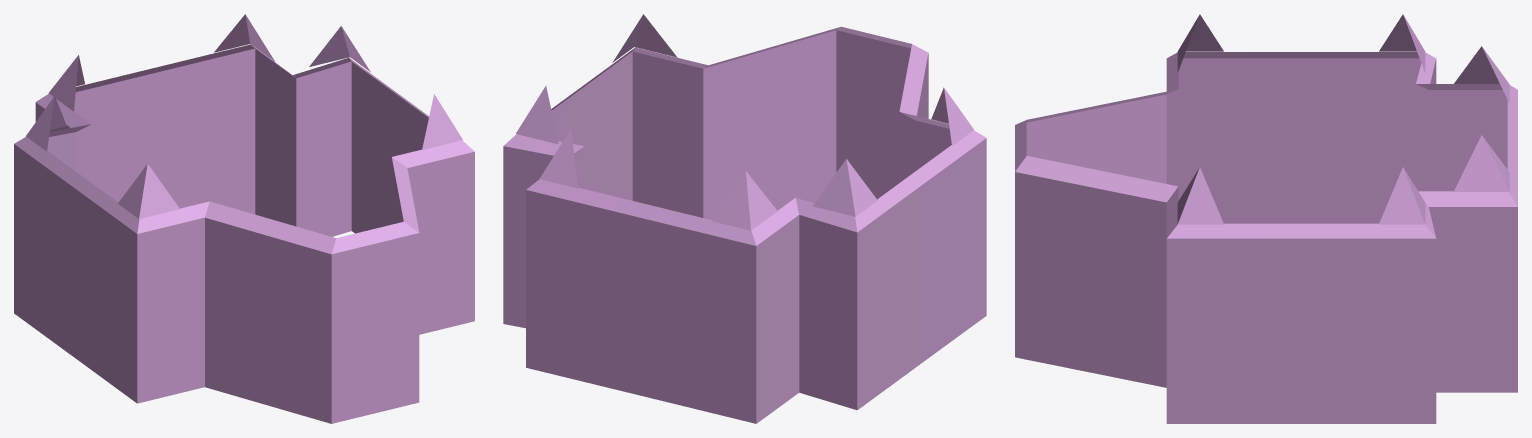
Rendered from Museum_renfort_04.fbx.
3 renders of one model, left to right at view 1: azimuth 30°, elevation 25°; view 2: azimuth 150°, elevation 25°; view 3: azimuth 270°, elevation 25°, orthographic. The views are drawn at different scales.
Visible parts, largest first — view 1: Archi_Renforts.004; view 2: Archi_Renforts.004; view 3: Archi_Renforts.004.
Part boxes in pixels (bbox=[...]): Archi_Renforts.004: bbox=[14, 14, 474, 423]; Archi_Renforts.004: bbox=[503, 14, 986, 423]; Archi_Renforts.004: bbox=[1015, 14, 1517, 423].
Bounding box in the file's own units: 143 × 90.12 × 169.
